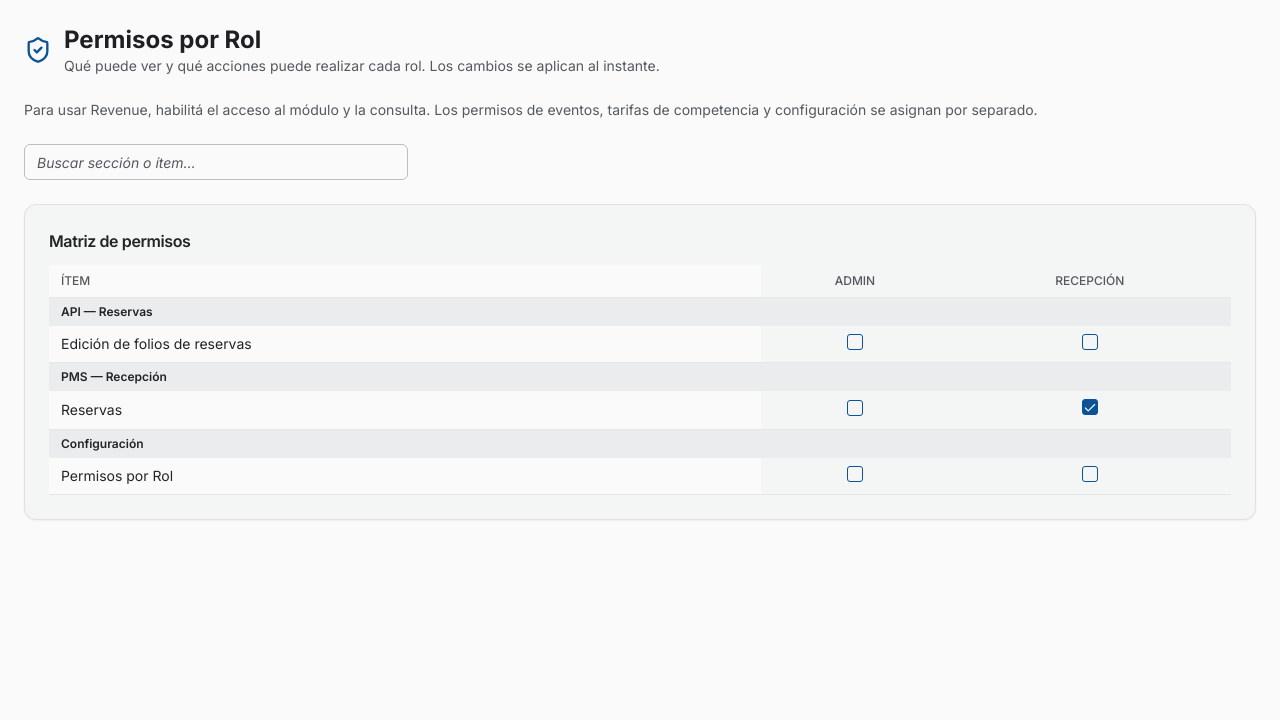
Test: pantalla de administración de permisos › el buscador filtra por label y por sección
Expected: the text "Reservas" is shown, top-left (49, 391), bottom-right (761, 430)
Expected: the row with test id "row-permiso-sidebar:/admin/permisos" is shown, top-left (49, 458), bottom-right (1231, 494)
Type "reservas" into the field with test id "input-filtro-permisos" at (216, 162), box top-left (24, 144), bottom-right (408, 180)
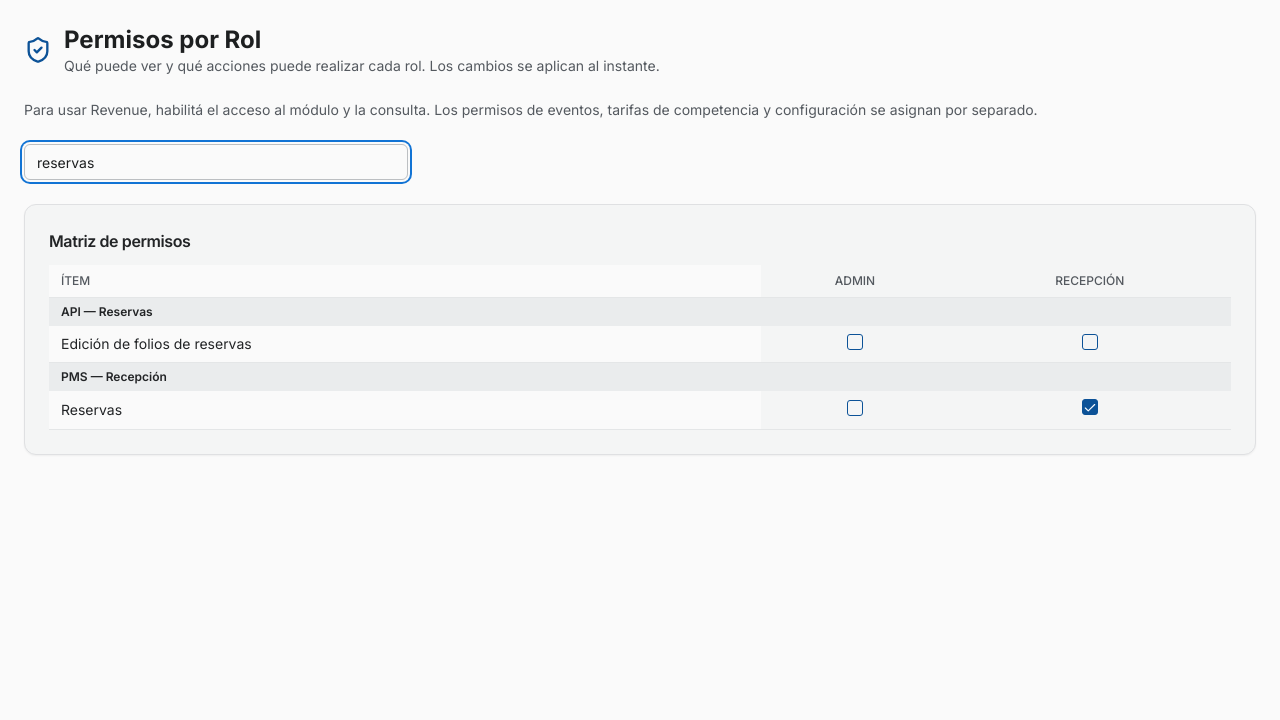
Expected: the text "Reservas" is shown, top-left (49, 391), bottom-right (761, 430)
Result: the row with test id "row-permiso-sidebar:/admin/permisos" is gone
